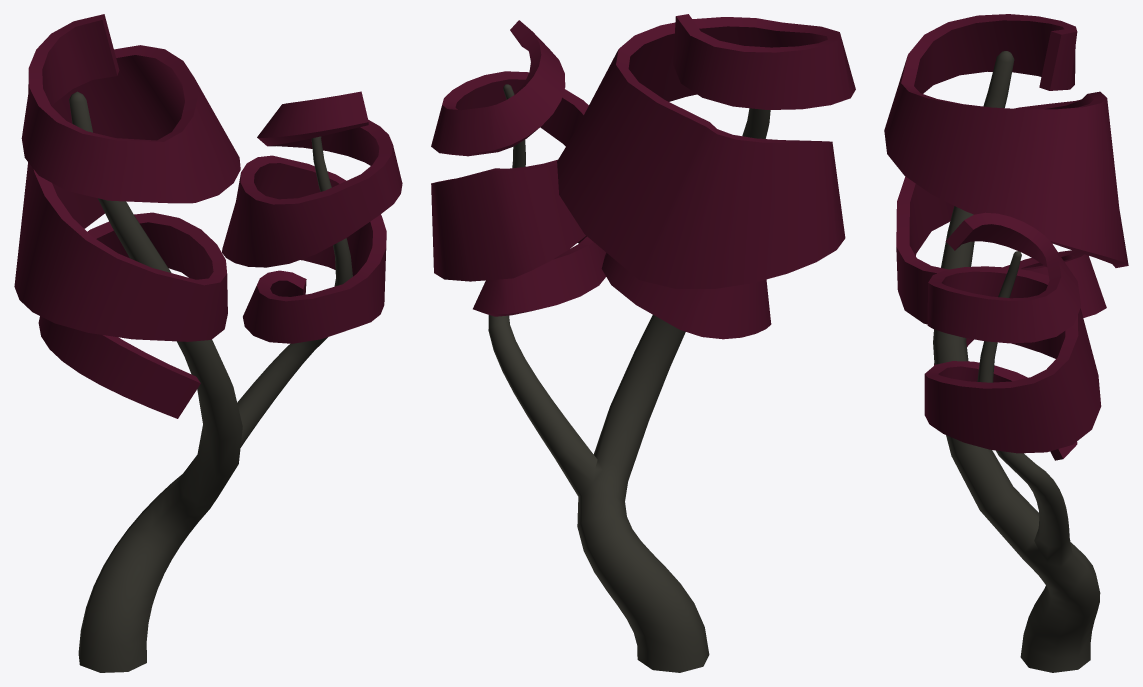
The model's file is Tree Spiral-kBomlgZ5xu.glb.
The picture shows the model from 3 angles, left to right: view 1: azimuth 30°, elevation 25°; view 2: azimuth 150°, elevation 25°; view 3: azimuth 270°, elevation 25°; orthographic projection. The views are drawn at different scales.
Visible parts, largest first — view 1: Tree_Spiral_2; view 2: Tree_Spiral_2; view 3: Tree_Spiral_2.
Boxes of the visible parts, x1,y1,x2,y2 form: Tree_Spiral_2: (14,14,402,672); Tree_Spiral_2: (431,14,855,672); Tree_Spiral_2: (884,14,1128,672).
Bounding box in the file's own units: 3.8 × 6.19 × 2.2.
Materials: 1 (1 with a texture image).
